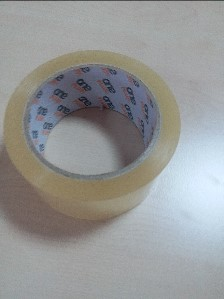band: (5, 50, 193, 220)
